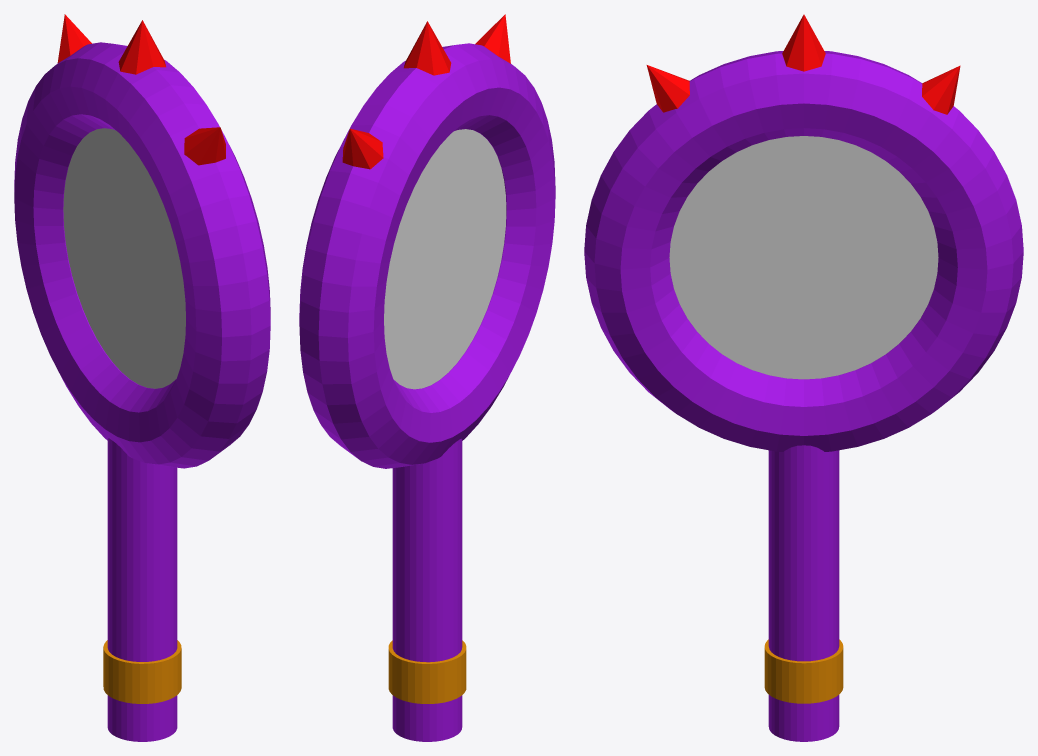
Rendered from lensOfTruthOG.fbx.
3 renders of one model, left to right at view 1: azimuth 30°, elevation 25°; view 2: azimuth 150°, elevation 25°; view 3: azimuth 270°, elevation 25°, orthographic.
Visible parts, largest first — view 1: Torus.001, Lens, Handle, Cylinder, Cone, Cone.002, Cone.001; view 2: Torus.001, Lens, Handle, Cylinder, Cone, Cone.001, Cone.002; view 3: Torus.001, Lens, Handle, Cylinder, Cone, Cone.002, Cone.001.
Part boxes in pixels (x1=…): Torus.001: x1=14, y1=42, x2=270, y2=468; Lens: x1=63, y1=128, x2=185, y2=388; Handle: x1=107, y1=438, x2=177, y2=741; Cylinder: x1=103, y1=640, x2=181, y2=703; Cone: x1=118, y1=20, x2=165, y2=74; Cone.002: x1=184, y1=127, x2=225, y2=165; Cone.001: x1=57, y1=14, x2=91, y2=62; Torus.001: x1=299, y1=43, x2=555, y2=468; Lens: x1=384, y1=129, x2=506, y2=389; Handle: x1=392, y1=438, x2=462, y2=741; Cylinder: x1=388, y1=640, x2=466, y2=703; Cone: x1=404, y1=21, x2=451, y2=75; Cone.001: x1=342, y1=128, x2=383, y2=169; Cone.002: x1=475, y1=14, x2=510, y2=63; Torus.001: x1=584, y1=51, x2=1023, y2=451; Lens: x1=669, y1=136, x2=938, y2=379; Handle: x1=768, y1=445, x2=839, y2=741; Cylinder: x1=764, y1=639, x2=843, y2=703; Cone: x1=782, y1=14, x2=825, y2=71; Cone.002: x1=646, y1=65, x2=689, y2=112; Cone.001: x1=922, y1=65, x2=960, y2=114.
Size of the model in its own units: 49.24 by 447 by 250.
